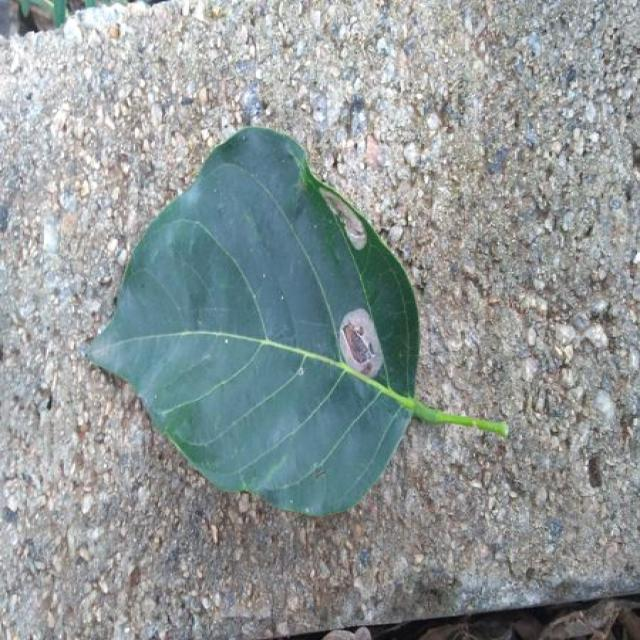honge: (90, 128, 507, 514)
powdery mildew: (316, 181, 420, 412)
